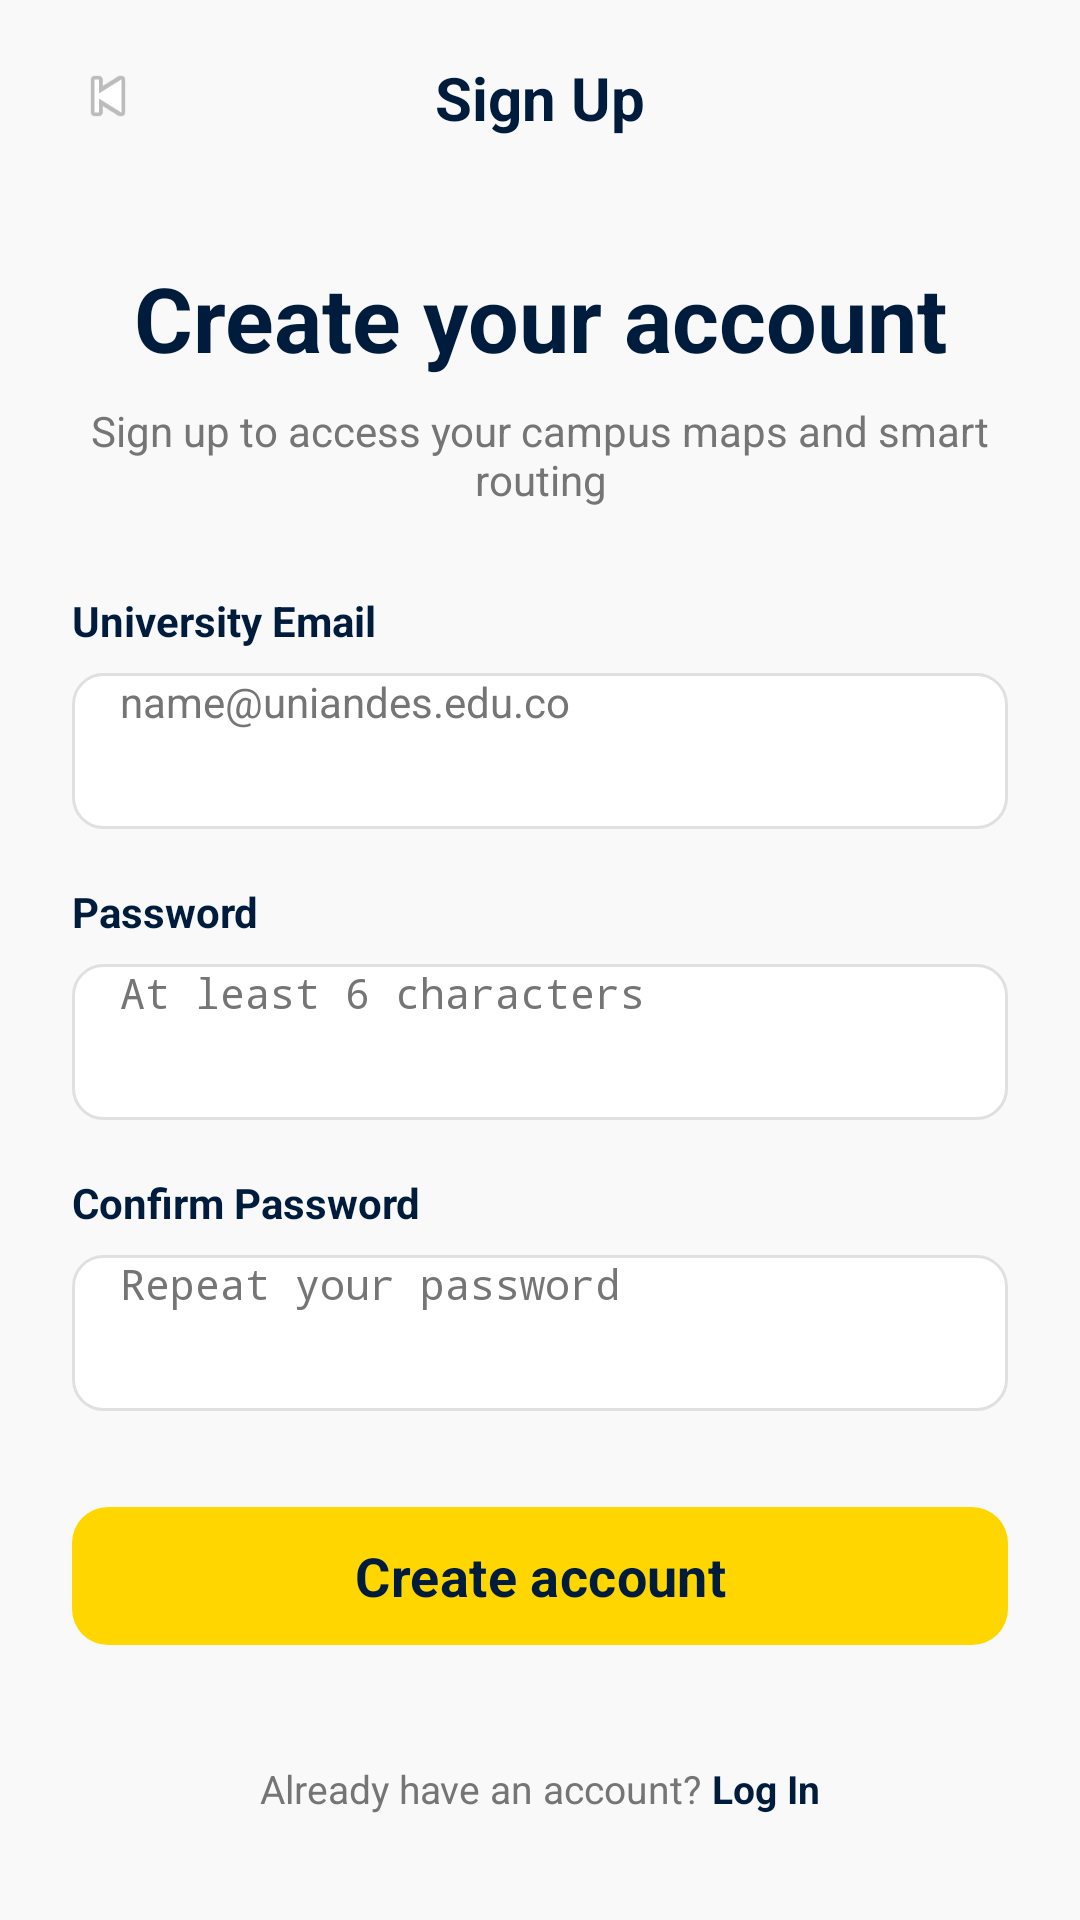

Screen size 1080w x 1920h. Icon name, then its box in pixels as {"left": x1, "top": y1, "right": x2, "bottom": y2}:
Back: {"left": 91, "top": 76, "right": 125, "bottom": 116}
